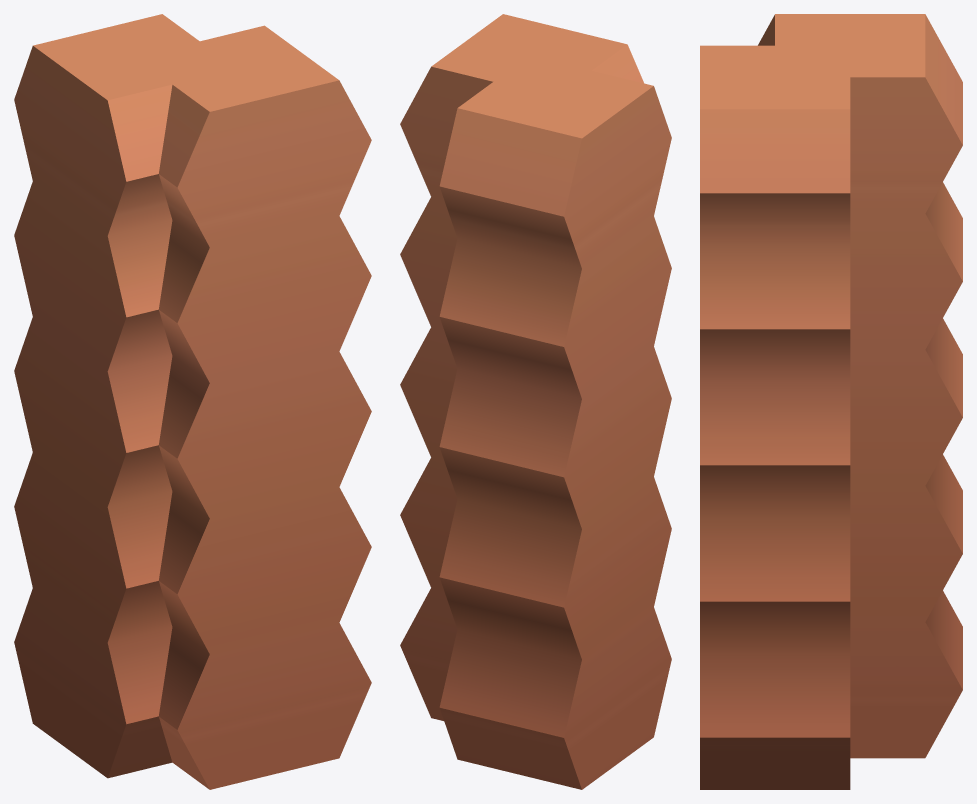
File: kenney-holiday-cabin-corner-logs.glb
The picture shows the model from 3 angles, left to right: view 1: azimuth 30°, elevation 25°; view 2: azimuth 150°, elevation 25°; view 3: azimuth 270°, elevation 25°; orthographic projection. The views are drawn at different scales.
Visible parts, largest first — view 1: cabin-corner-logs; view 2: cabin-corner-logs; view 3: cabin-corner-logs.
Boxes of the visible parts, x1=… form: cabin-corner-logs: x1=14, y1=14, x2=371, y2=789; cabin-corner-logs: x1=400, y1=14, x2=671, y2=789; cabin-corner-logs: x1=700, y1=14, x2=962, y2=789.
Bounding box in the file's own units: 0.35 × 1 × 0.35.
Materials: 1 (1 with a texture image).
